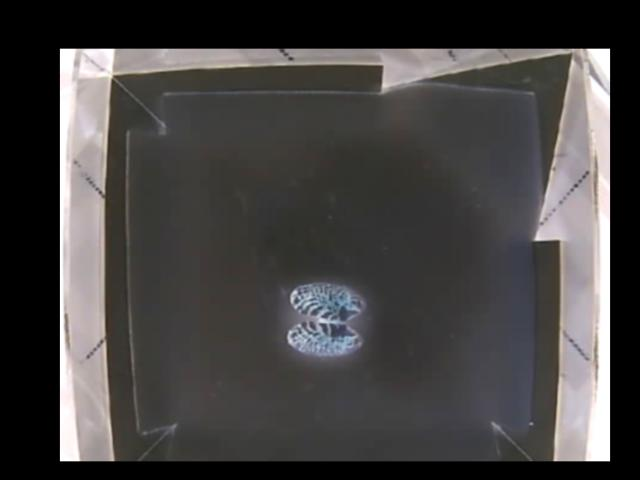Shell: (288, 284, 365, 356)
